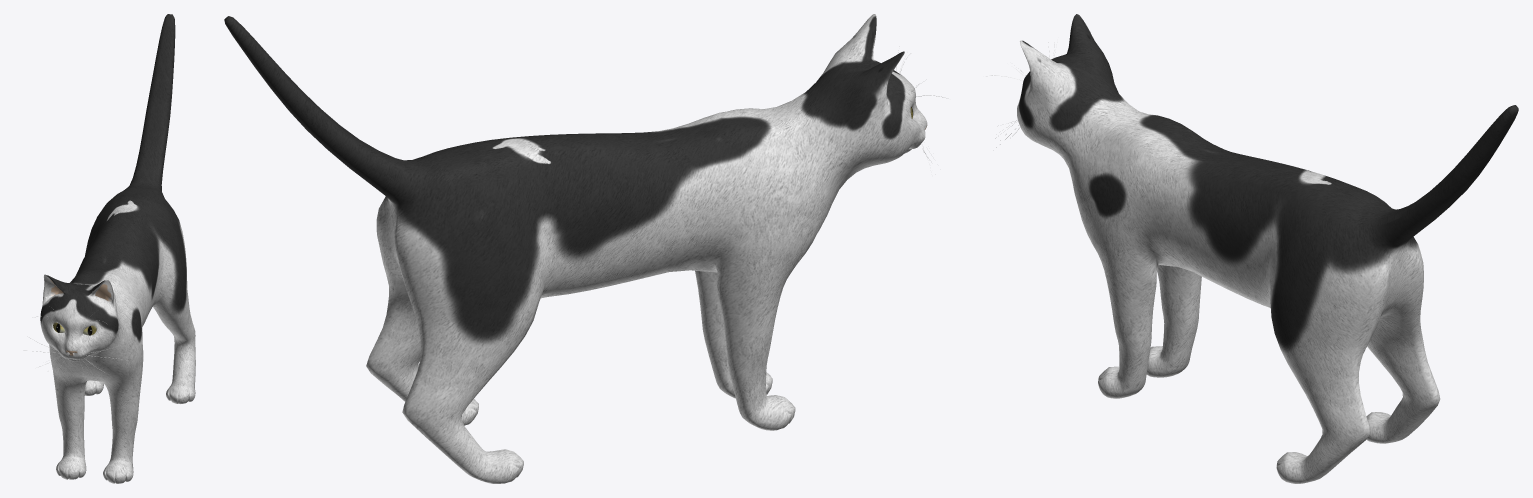
File: Cat.obj
3 renders of one model, left to right at view 1: azimuth 30°, elevation 25°; view 2: azimuth 150°, elevation 25°; view 3: azimuth 270°, elevation 25°, orthographic. The views are drawn at different scales.
Visible parts, largest first — view 1: Cat_husa; view 2: Cat_husa; view 3: Cat_husa.
Part boxes in pixels (x1=…): Cat_husa: x1=23, y1=14, x2=195, y2=483; Cat_husa: x1=224, y1=14, x2=948, y2=483; Cat_husa: x1=986, y1=14, x2=1518, y2=483.
Bounding box in the file's own units: 0.8005 × 0.7505 × 0.8769.
Materials: 9 (9 with a texture image).
